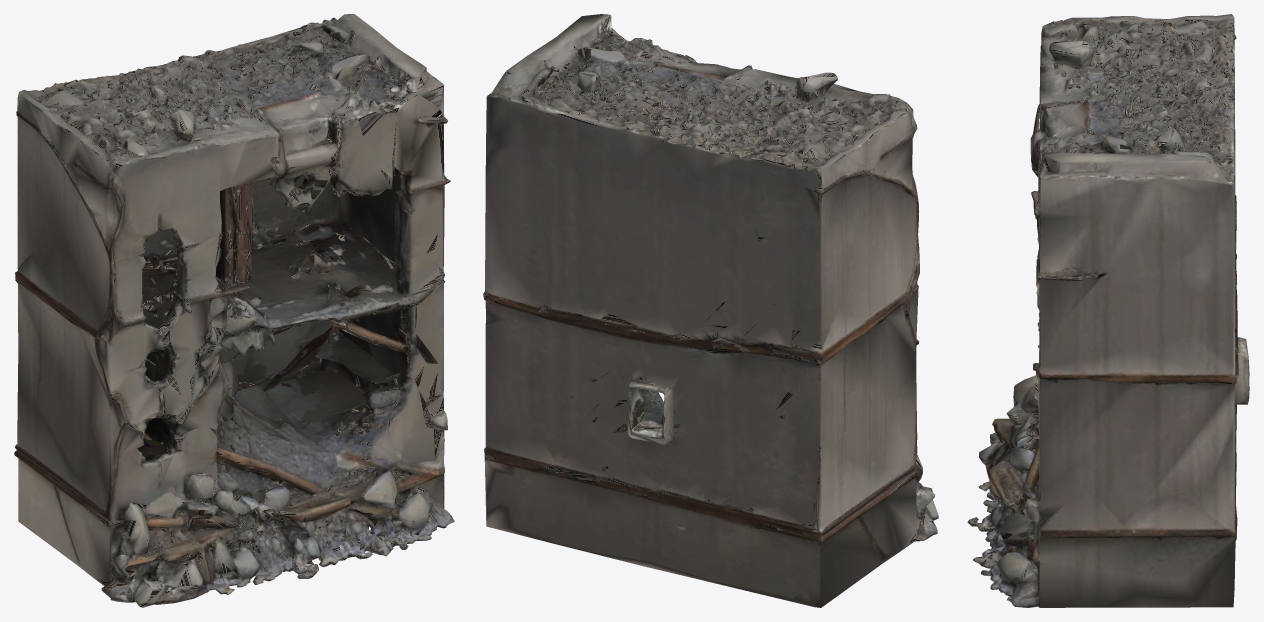
Rendered from ruin-b.glb.
3 views of the same model, side by side, from view 1: azimuth 30°, elevation 25°; view 2: azimuth 150°, elevation 25°; view 3: azimuth 270°, elevation 25° (orthographic).
Parts seen in each view (by area): view 1: scan-0; view 2: scan-0; view 3: scan-0.
Boxes of the visible parts, x1,y1,x2,y2 form: scan-0: [14, 14, 454, 607]; scan-0: [483, 14, 938, 607]; scan-0: [967, 14, 1249, 607].
Bounding box in the file's own units: 1.63 × 1.99 × 1.13.
Materials: 1 (1 with a texture image).
